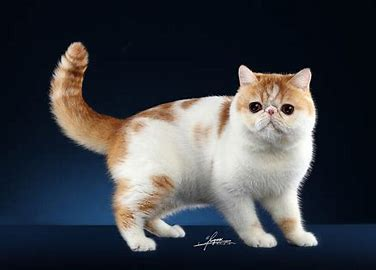cat: (52, 36, 334, 253)
